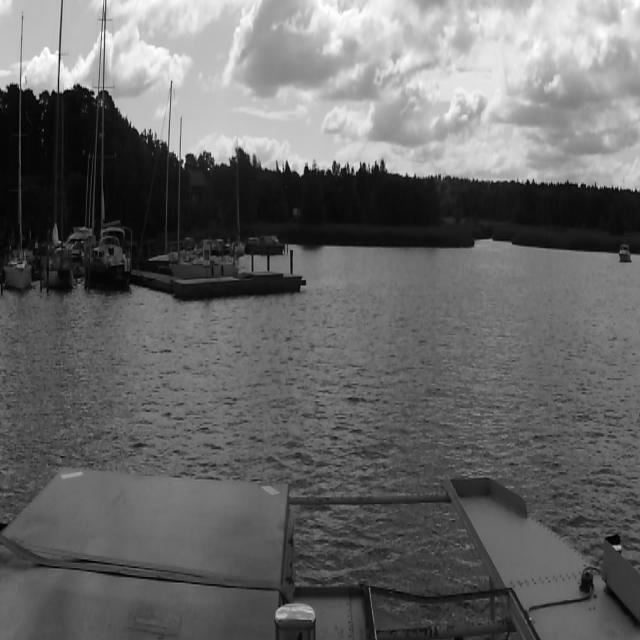ship: (164, 111, 246, 274), (92, 1, 137, 288), (0, 11, 36, 290), (42, 0, 75, 293), (146, 81, 179, 265), (226, 138, 247, 256), (616, 243, 632, 260)
